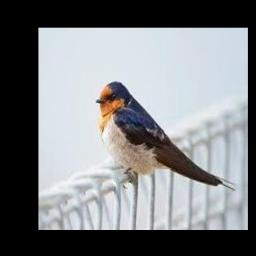Swallow: (96, 81, 236, 191)
